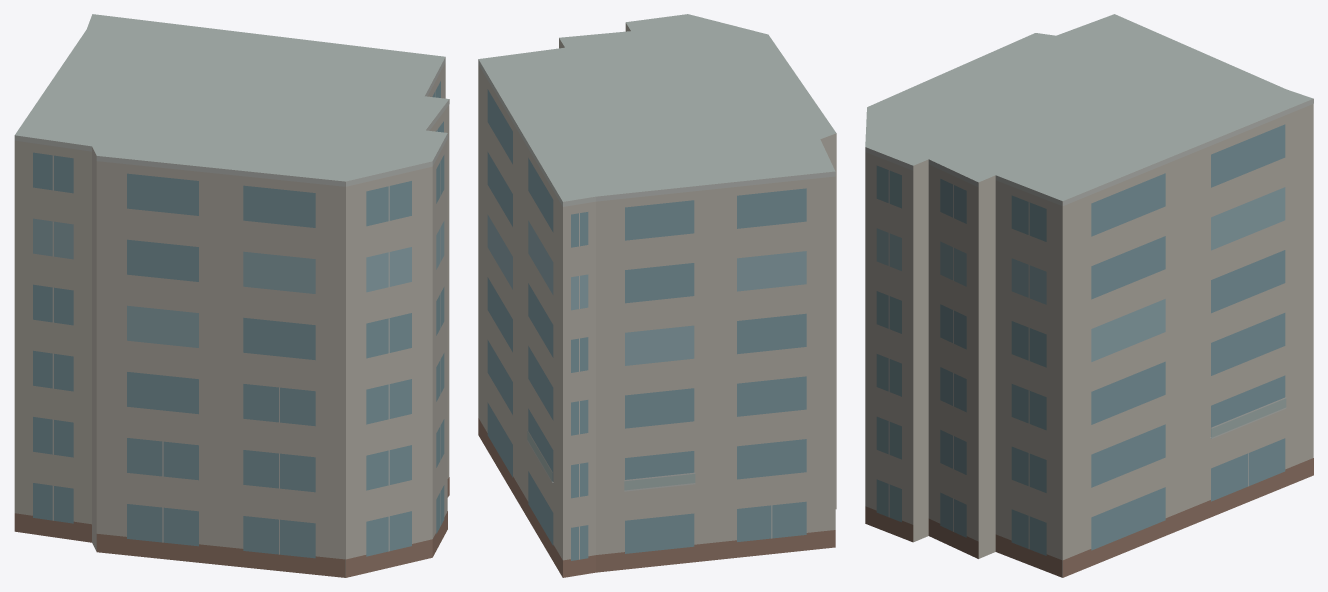
Rendered from survey-upis-32641560.glb.
The picture shows the model from 3 angles, left to right: view 1: azimuth 30°, elevation 25°; view 2: azimuth 150°, elevation 25°; view 3: azimuth 270°, elevation 25°; orthographic projection. The views are drawn at different scales.
Visible parts, largest first — view 1: survey-upis-32641560.tmp; view 2: survey-upis-32641560.tmp; view 3: survey-upis-32641560.tmp.
Part boxes in pixels (left/top/right/bottom): survey-upis-32641560.tmp: left=14, top=14, right=449, bottom=577; survey-upis-32641560.tmp: left=478, top=14, right=836, bottom=577; survey-upis-32641560.tmp: left=865, top=14, right=1313, bottom=577.
Size of the model in its own units: 19.52 by 18.3 by 19.76.
